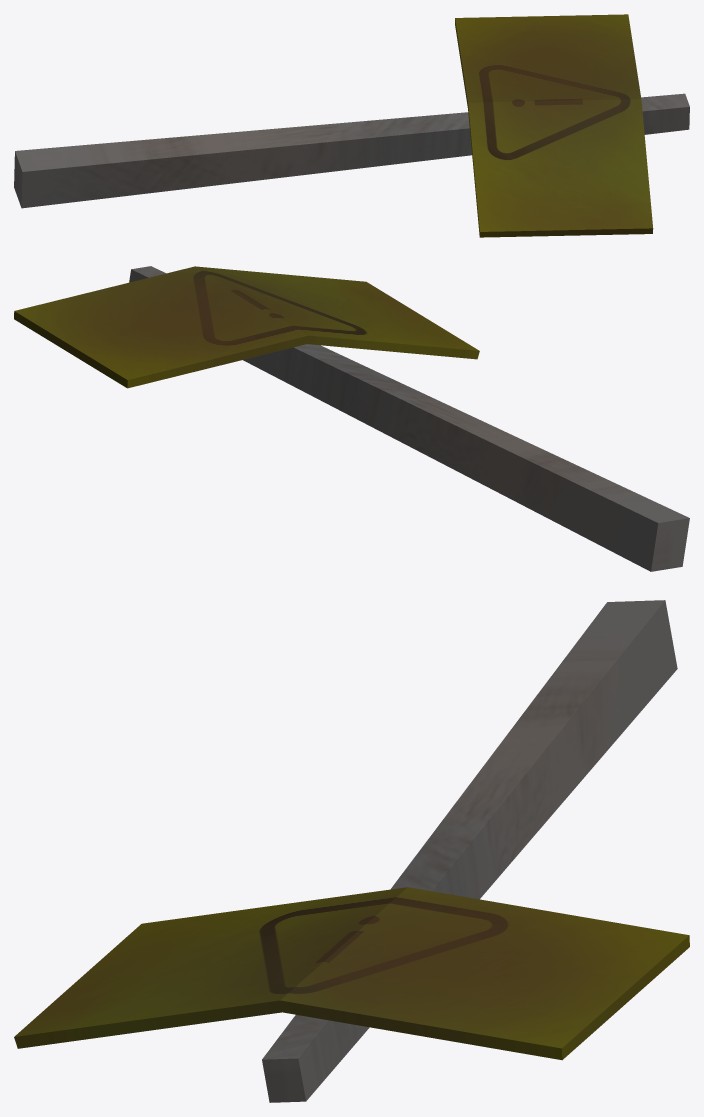
The model's file is PlacaCaida.fbx.
3 renders of one model, top to bottom at view 1: azimuth 30°, elevation 25°; view 2: azimuth 150°, elevation 25°; view 3: azimuth 270°, elevation 25°, orthographic. The views are drawn at different scales.
Parts seen in each view (by area): view 1: PlacaQuebrada; view 2: PlacaQuebrada; view 3: PlacaQuebrada.
Part boxes in pixels (x1,y1,x2,y2): PlacaQuebrada: (14, 14, 689, 237); PlacaQuebrada: (14, 266, 689, 571); PlacaQuebrada: (14, 600, 689, 1102).
Size of the model in its own units: 238 by 26.48 by 140.
